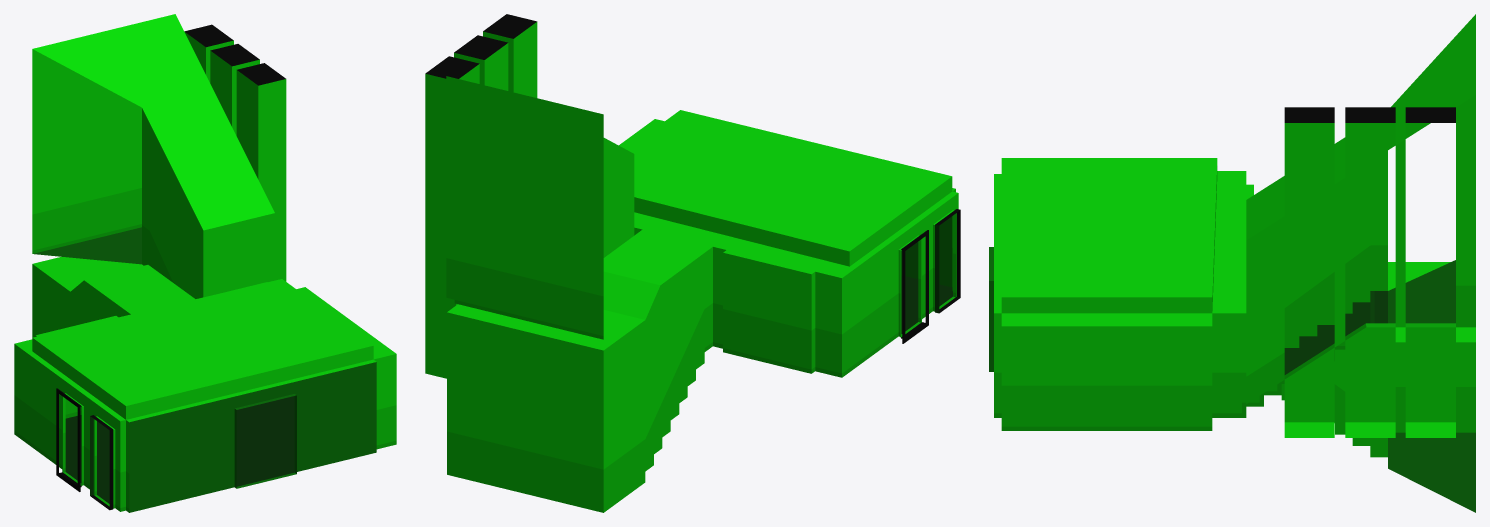
The model's file is patro2-chodbaKratka-altBezDveri.fbx.
The picture shows the model from 3 angles, left to right: view 1: azimuth 30°, elevation 25°; view 2: azimuth 150°, elevation 25°; view 3: azimuth 270°, elevation 25°; orthographic projection. The views are drawn at different scales.
Visible parts, largest first — view 1: ChodbaKratka.Front.001, ChodbaKratka.Top.001, ChodbaKratka.Bottom.001, ChodbaKratka.Left.001, ChodbaKratka.Back.001, ChodbaKratka.Right.001; view 2: ChodbaKratka.Back.001, ChodbaKratka.Top.001, ChodbaKratka.Left.001, ChodbaKratka.Bottom.001, ChodbaKratka.Front.001, ChodbaKratka.Right.001; view 3: ChodbaKratka.Right.001, ChodbaKratka.Top.001, ChodbaKratka.Left.001, ChodbaKratka.Bottom.001.
Part boxes in pixels (x1,y1,x2,y2): ChodbaKratka.Front.001: [79, 40, 396, 512]; ChodbaKratka.Top.001: [15, 24, 396, 430]; ChodbaKratka.Bottom.001: [33, 14, 296, 509]; ChodbaKratka.Left.001: [14, 32, 258, 512]; ChodbaKratka.Back.001: [32, 49, 141, 495]; ChodbaKratka.Right.001: [58, 393, 296, 495]; ChodbaKratka.Back.001: [425, 31, 939, 512]; ChodbaKratka.Top.001: [425, 14, 960, 350]; ChodbaKratka.Left.001: [456, 22, 958, 512]; ChodbaKratka.Bottom.001: [603, 271, 960, 338]; ChodbaKratka.Front.001: [901, 210, 960, 322]; ChodbaKratka.Right.001: [900, 213, 956, 338]; ChodbaKratka.Right.001: [989, 95, 1475, 457]; ChodbaKratka.Top.001: [989, 107, 1475, 342]; ChodbaKratka.Left.001: [1284, 123, 1475, 432]; ChodbaKratka.Bottom.001: [1246, 14, 1475, 512].
Size of the model in its own units: 784 by 920 by 970.
